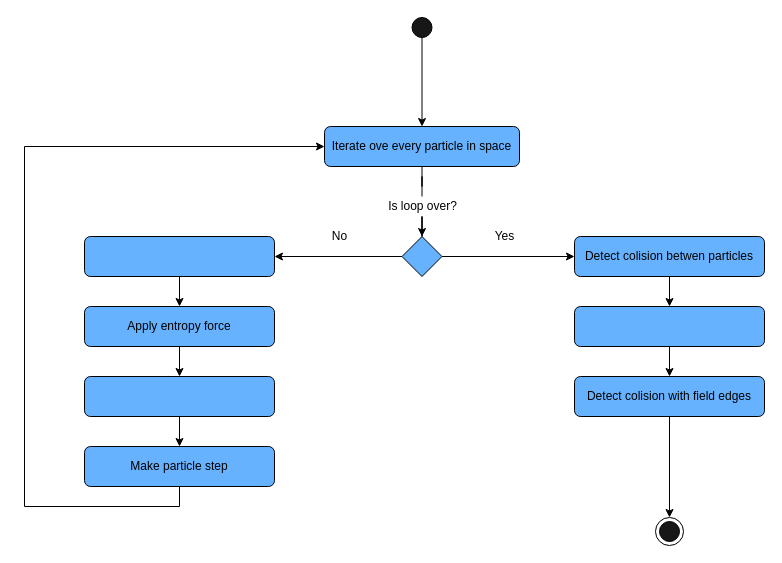
Some shapes in this 782 by 563 pixel diagram are drawn without their labels. The shapes that lost their labels are listed below. From the top down, each one's centre as x and y in pixels, then its label:
At pixel 179 256: "Generate random entropy force".
At pixel 669 326: "Reverse particles speed relative to colision axis".
At pixel 179 396: "Apply resistance".
